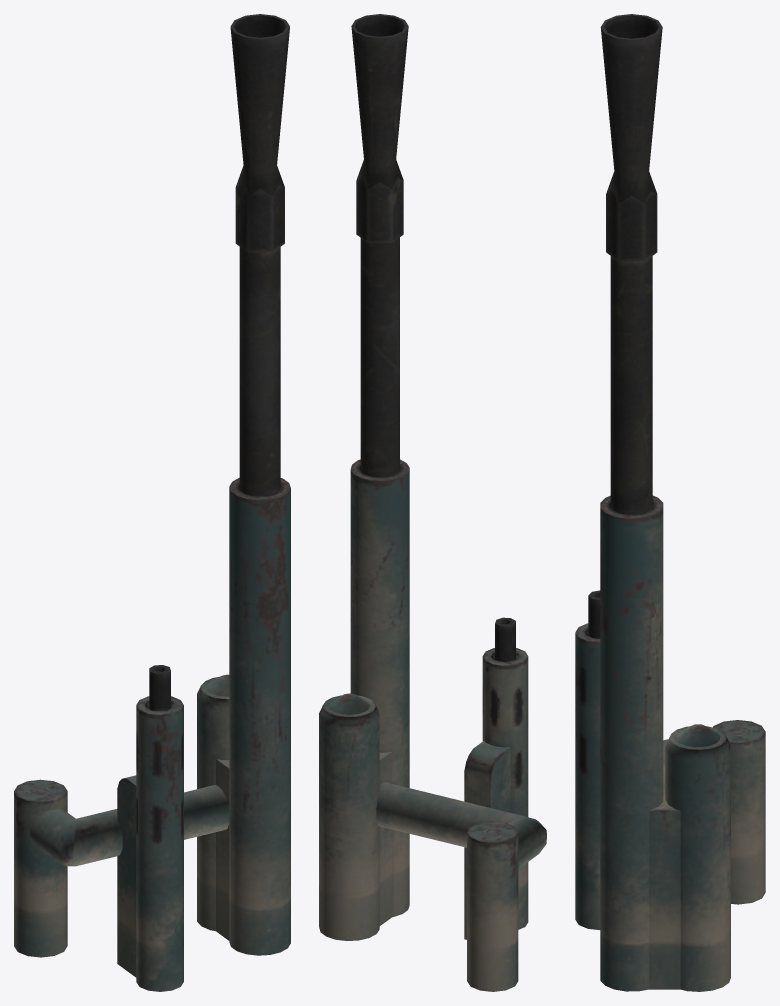
File: Gun_01.glb
3 renders of one model, left to right at view 1: azimuth 30°, elevation 25°; view 2: azimuth 150°, elevation 25°; view 3: azimuth 270°, elevation 25°, orthographic. The views are drawn at different scales.
Parts seen in each view (by area): view 1: set_0_group_0; view 2: set_0_group_0; view 3: set_0_group_0.
Boxes of the visible parts, x1,y1,x2,y2 form: set_0_group_0: (14, 14, 290, 991); set_0_group_0: (319, 14, 546, 991); set_0_group_0: (575, 14, 765, 991).
Bounding box in the file's own units: 0.3258 × 1.3 × 0.2362.
1 material, 1 textured.
